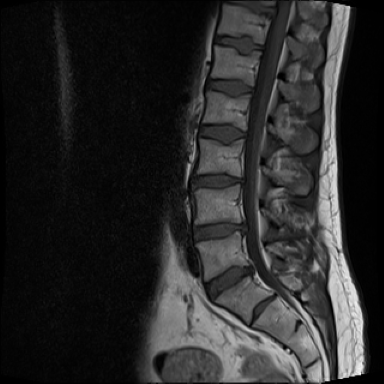Lumbar Disc Bulge (LDB): (200, 261, 260, 306), (187, 213, 253, 248), (188, 169, 251, 192)
Normal IVD: (203, 74, 256, 99), (193, 123, 249, 146), (211, 33, 264, 56)
Spinal Stenosis (SS): (236, 217, 253, 238), (245, 261, 258, 281), (232, 173, 248, 188)
